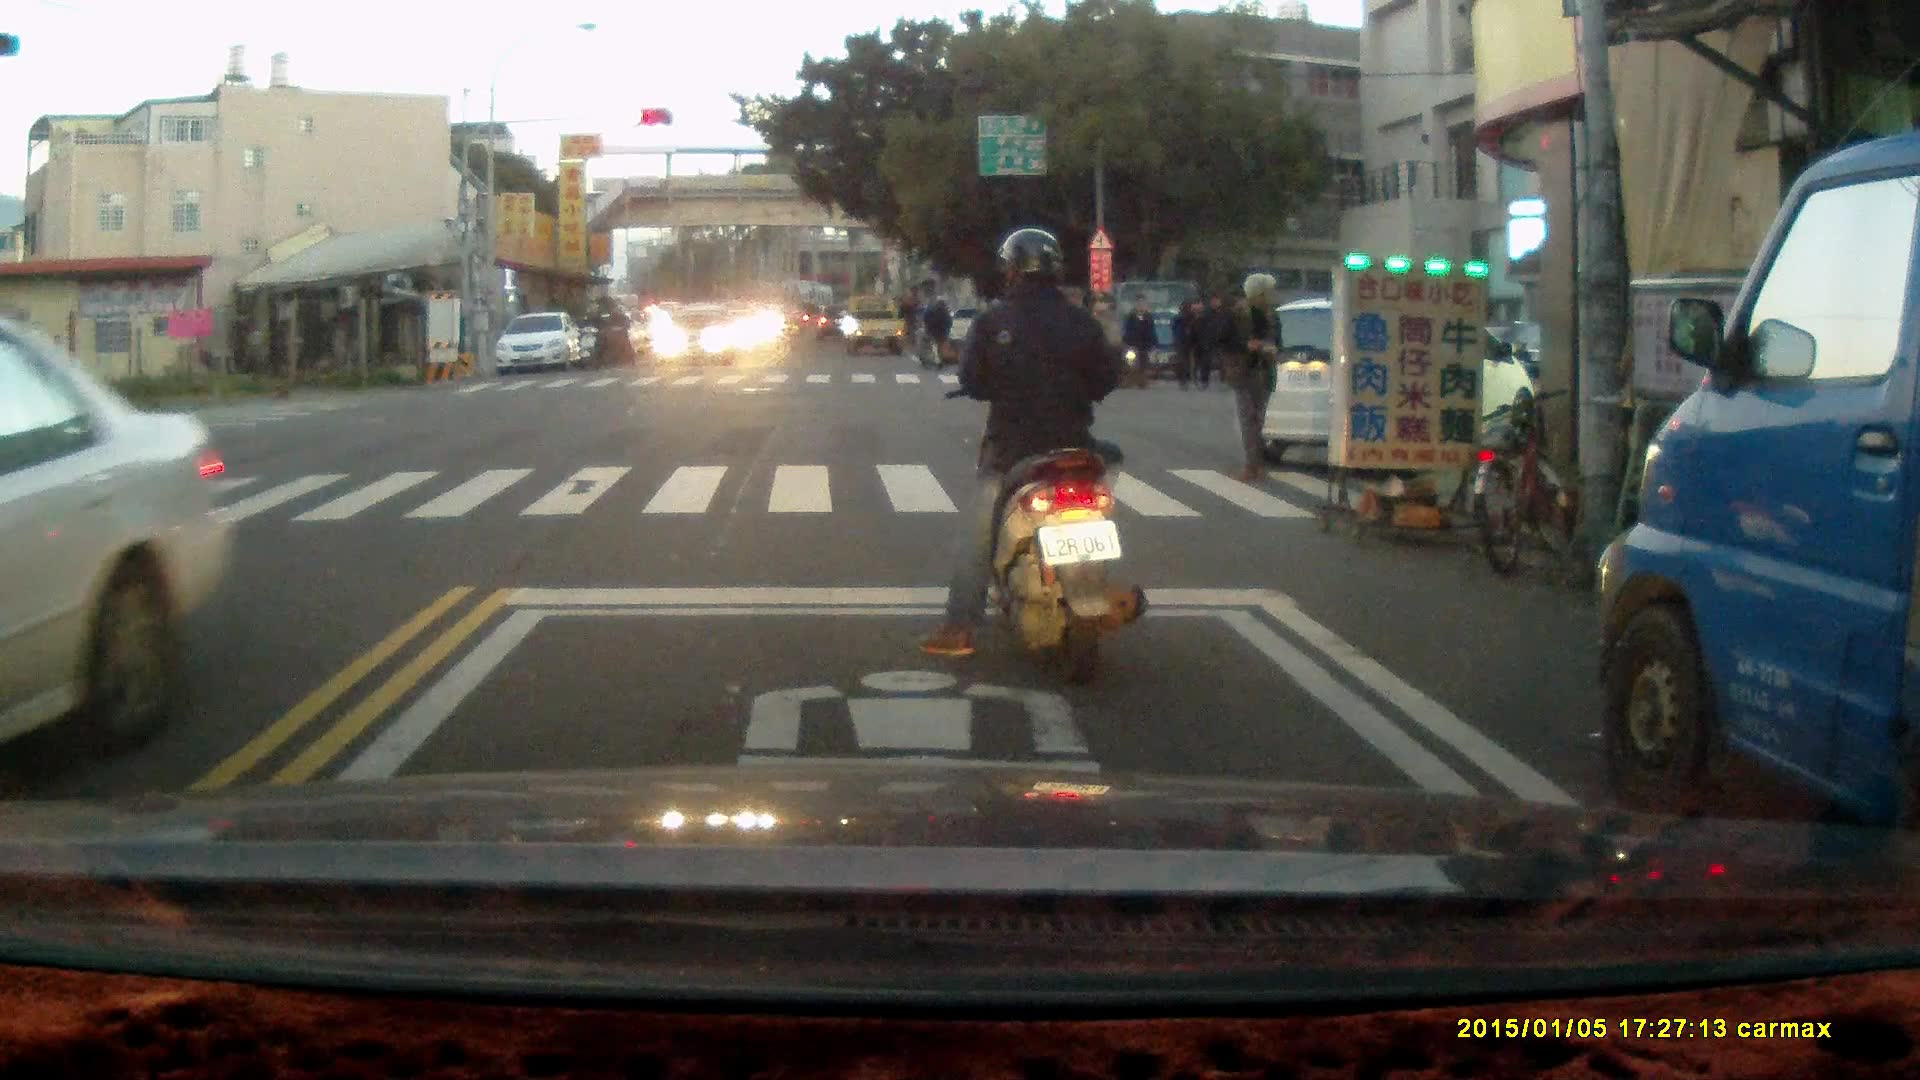pedestrian: (1214, 272, 1287, 482), (1119, 291, 1160, 391), (1169, 292, 1203, 391)
rider: (918, 225, 1149, 687), (914, 288, 955, 367), (577, 301, 612, 372), (595, 300, 631, 367)
vehicle: (1596, 120, 1920, 901), (1, 340, 234, 792), (1236, 303, 1533, 462), (651, 300, 743, 369), (493, 311, 584, 378), (841, 295, 905, 358)
